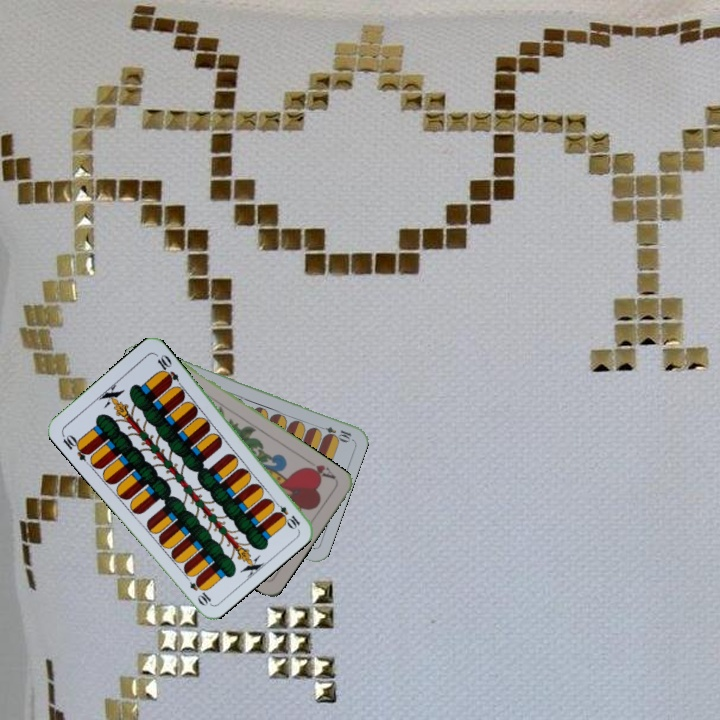E10: (269, 496, 303, 531), (58, 430, 93, 464), (314, 422, 354, 443)
HA: (301, 456, 338, 482)
